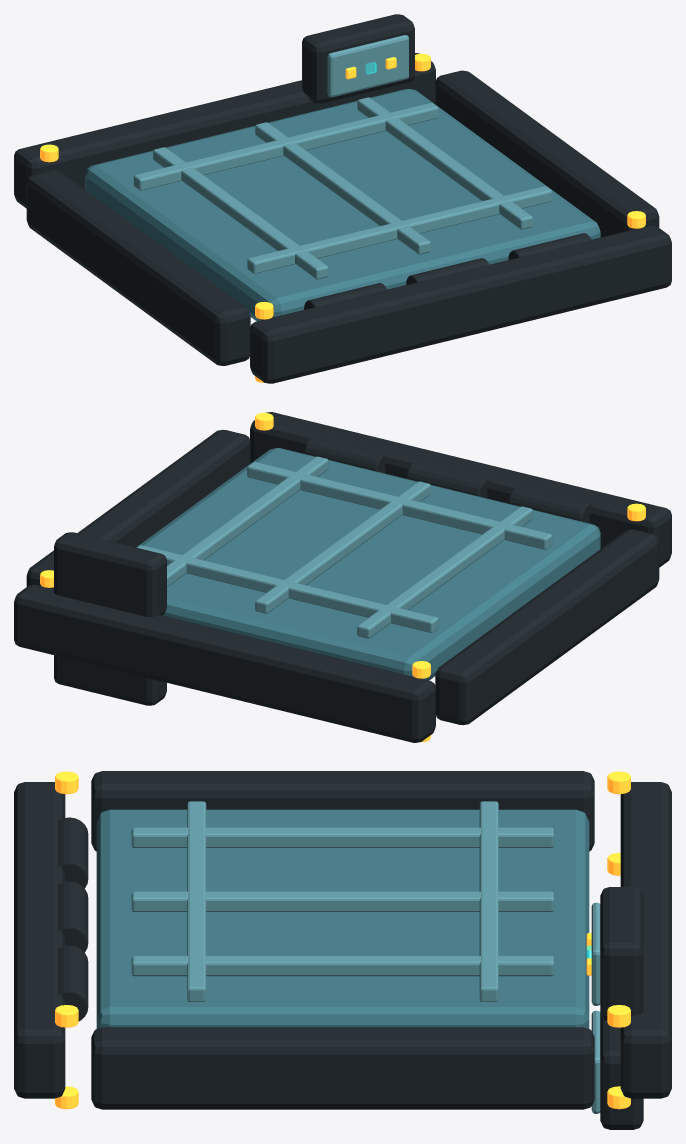
Rendered from 01_square_hinged_armored.glb.
3 views of the same model, one above another, from view 1: azimuth 30°, elevation 25°; view 2: azimuth 150°, elevation 25°; view 3: azimuth 270°, elevation 25° (orthographic). The views are drawn at different scales.
Visible parts, largest first — view 1: Moving_Square_Armored_Leaf, Frame_North, Frame_West, Frame_South, Frame_East, Moving_Top_Cross_Rib_1, Moving_Top_Cross_Rib_0, Control_Top_Housing, Control_Top_Face, Moving_Top_Longitudinal_Rib_2, Moving_Top_Longitudinal_Rib_0, Moving_Top_Longitudinal_Rib_1 (+3 smaller); view 2: Moving_Square_Armored_Leaf, Frame_South, Frame_West, Frame_North, Frame_East, Control_Top_Housing, Moving_Top_Cross_Rib_0, Moving_Top_Cross_Rib_1, Moving_Top_Longitudinal_Rib_1, Moving_Top_Longitudinal_Rib_0, Moving_Top_Longitudinal_Rib_2, Control_Bottom_Housing (+3 smaller); view 3: Moving_Square_Armored_Leaf, Frame_East, Frame_West, Frame_North, Frame_South, Moving_Top_Longitudinal_Rib_2, Moving_Top_Longitudinal_Rib_0, Moving_Top_Longitudinal_Rib_1, Control_Top_Housing, Moving_Top_Cross_Rib_0, Moving_Top_Cross_Rib_1, Control_Bottom_Housing (+5 smaller).
Part boxes in pixels (x1=…): Moving_Square_Armored_Leaf: x1=85, y1=89, x2=600, y2=321; Frame_North: x1=250, y1=225, x2=671, y2=383; Frame_West: x1=26, y1=170, x2=250, y2=365; Frame_South: x1=14, y1=53, x2=435, y2=208; Frame_East: x1=435, y1=70, x2=659, y2=237; Moving_Top_Cross_Rib_1: x1=133, y1=103, x2=438, y2=190; Moving_Top_Cross_Rib_0: x1=247, y1=186, x2=552, y2=273; Control_Top_Housing: x1=302, y1=14, x2=414, y2=103; Control_Top_Face: x1=327, y1=35, x2=408, y2=97; Moving_Top_Longitudinal_Rib_2: x1=357, y1=97, x2=532, y2=229; Moving_Top_Longitudinal_Rib_0: x1=153, y1=147, x2=328, y2=279; Moving_Top_Longitudinal_Rib_1: x1=255, y1=122, x2=430, y2=254; Moving_Square_Armored_Leaf: x1=136, y1=448, x2=600, y2=680; Frame_South: x1=14, y1=584, x2=435, y2=742; Frame_West: x1=435, y1=529, x2=659, y2=725; Frame_North: x1=250, y1=412, x2=671, y2=567; Frame_East: x1=26, y1=429, x2=250, y2=588; Control_Top_Housing: x1=54, y1=532, x2=166, y2=617; Moving_Top_Cross_Rib_0: x1=247, y1=462, x2=552, y2=549; Moving_Top_Cross_Rib_1: x1=137, y1=545, x2=438, y2=632; Moving_Top_Longitudinal_Rib_1: x1=255, y1=481, x2=430, y2=613; Moving_Top_Longitudinal_Rib_0: x1=357, y1=506, x2=532, y2=638; Moving_Top_Longitudinal_Rib_2: x1=167, y1=456, x2=328, y2=587; Control_Bottom_Housing: x1=54, y1=655, x2=166, y2=705; Moving_Square_Armored_Leaf: x1=96, y1=809, x2=589, y2=1028; Frame_East: x1=91, y1=1027, x2=594, y2=1109; Frame_West: x1=91, y1=771, x2=594, y2=851; Frame_North: x1=14, y1=782, x2=65, y2=1098; Frame_South: x1=620, y1=782, x2=671, y2=1098; Moving_Top_Longitudinal_Rib_2: x1=131, y1=955, x2=554, y2=976; Moving_Top_Longitudinal_Rib_0: x1=131, y1=827, x2=554, y2=847; Moving_Top_Longitudinal_Rib_1: x1=131, y1=891, x2=554, y2=911; Control_Top_Housing: x1=600, y1=887, x2=643, y2=1020; Moving_Top_Cross_Rib_0: x1=187, y1=801, x2=206, y2=1001; Moving_Top_Cross_Rib_1: x1=479, y1=801, x2=498, y2=1001; Control_Bottom_Housing: x1=600, y1=1013, x2=643, y2=1129.
Bounding box in the file's own units: 1.22 × 0.38 × 1.22.
